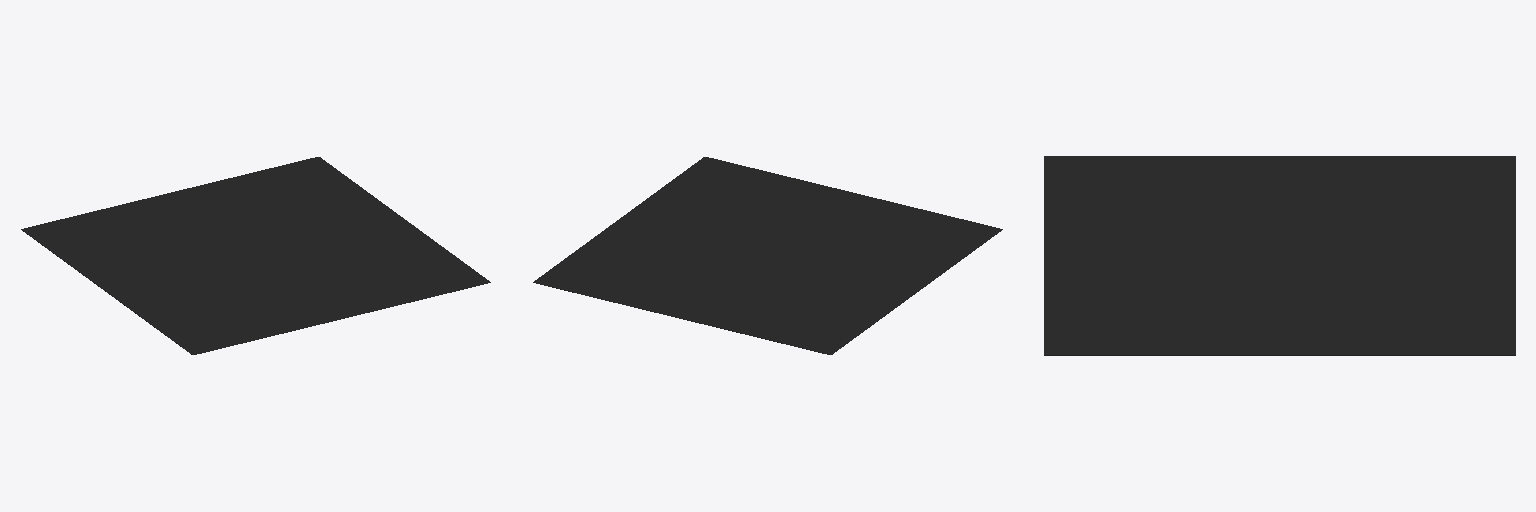
URDF robot description (simpleplane):
<?xml version="1.0"?>
<robot name="simpleplane">
    <!-- Colors -->
    <material name="black">
        <color rgba="0 0 0 1"/>
    </material>
    <material name="dimgrey">
        <color rgba="0.2 0.2 0.2 1"/>
    </material>

    <!-- Plane -->
    <link name="base_link">
        <visual>
            <geometry>
                <box size="20 20 0.01"/>
                <origin rpy="0 0 0" xyz="-10 -10 -0.005"/>
            </geometry>
            <material name="dimgrey"/>
        </visual>
        <collision>
             <geometry>
                <box size="20 20 0.01"/>
                <origin rpy="0 0 0" xyz="-10 -10 -0.005"/>
            </geometry>
        </collision>
        <inertial>
            <mass value="0"/>
            <inertia ixx="0" ixy="0" ixz="0" iyy="0" iyz="0" izz="0"/>
        </inertial>
        <contact>
            <lateral_friction value="2"/>
        </contact>
    </link>
</robot>

--- Facts derived from the render (not from the file) ---
The picture shows the robot from 3 angles, left to right: view 1: azimuth 30°, elevation 25°; view 2: azimuth 150°, elevation 25°; view 3: azimuth 270°, elevation 25°; orthographic projection.
Robot: simpleplane — 1 links, 0 joints (none); root link base_link; default pose: all joints at 0.
Links seen in each view (by area): view 1: base_link; view 2: base_link; view 3: base_link.
Boxes of the visible links, x1=… form: base_link: x1=21, y1=157, x2=490, y2=354; base_link: x1=533, y1=157, x2=1002, y2=354; base_link: x1=1044, y1=156, x2=1515, y2=355.
Bounding box of the posed robot: 20 × 20 × 0.01 m (x, y, z).
Geometry: primitives only (box / cylinder / sphere), no mesh files.
